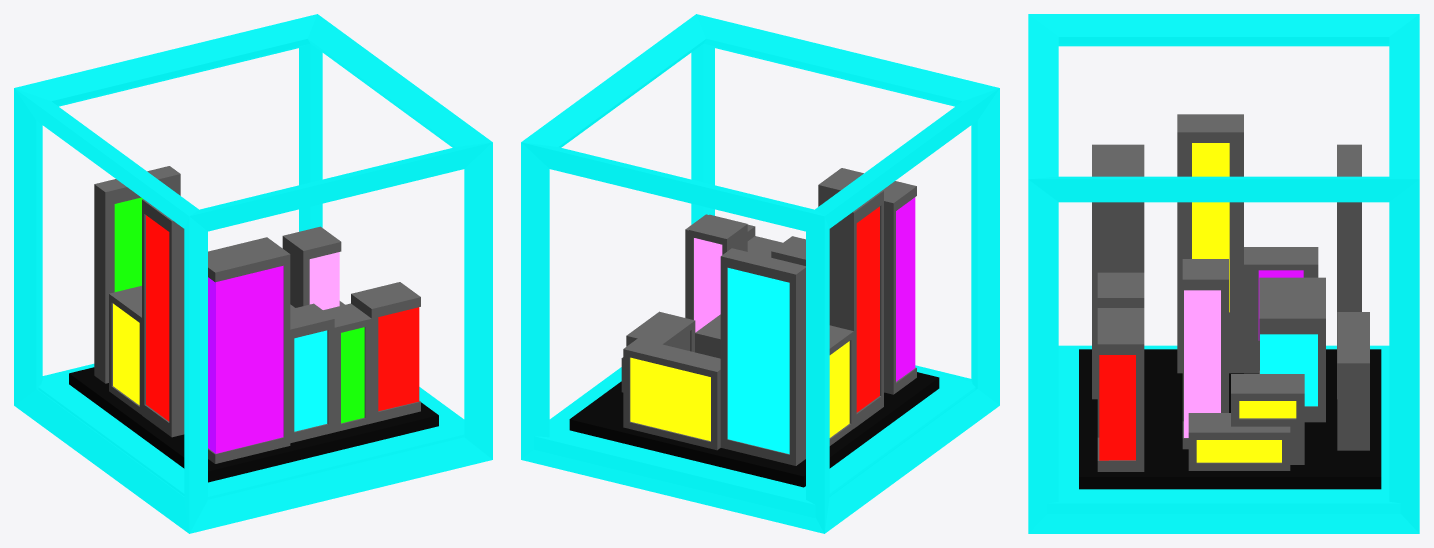
Rendered from Cyberpunk Memory Cube.fbx.
3 renders of one model, left to right at view 1: azimuth 30°, elevation 25°; view 2: azimuth 150°, elevation 25°; view 3: azimuth 270°, elevation 25°, orthographic. The views are drawn at different scales.
Visible parts, largest first — view 1: Cube.016, Cube.049, Cube.018; view 2: Cube.016, Cube.049, Cube.018; view 3: Cube.049, Cube.016, Cube.018.
Boxes of the visible parts, left/top/right/bottom form: Cube.016: left=14, top=14, right=492, bottom=533; Cube.049: left=69, top=166, right=438, bottom=482; Cube.018: left=38, top=363, right=464, bottom=499; Cube.016: left=521, top=14, right=999, bottom=533; Cube.049: left=569, top=168, right=939, bottom=487; Cube.018: left=533, top=367, right=975, bottom=517; Cube.049: left=1079, top=114, right=1381, bottom=489; Cube.016: left=1028, top=14, right=1419, bottom=533; Cube.018: left=1047, top=347, right=1400, bottom=513.
Bounding box in the file's own units: 61.71 × 61.71 × 61.71.
